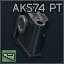AKS-74%5AKS-74U Zenit PT Lock: (0, 0, 64, 64)
